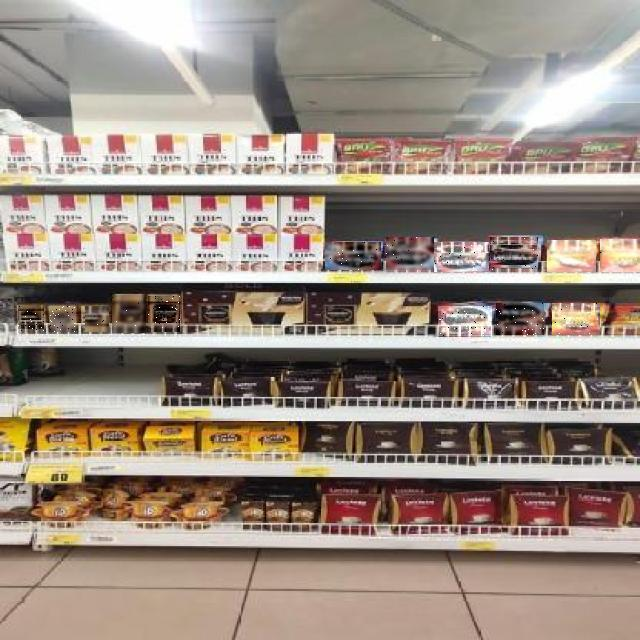Coffee: (434, 242, 489, 272), (491, 238, 539, 272), (386, 238, 434, 272), (439, 306, 493, 336), (547, 240, 596, 272), (325, 242, 381, 270), (496, 303, 544, 335), (552, 303, 600, 335), (600, 239, 640, 272), (112, 295, 146, 333), (148, 296, 180, 332), (18, 306, 44, 332), (50, 306, 76, 332), (85, 306, 109, 332)
